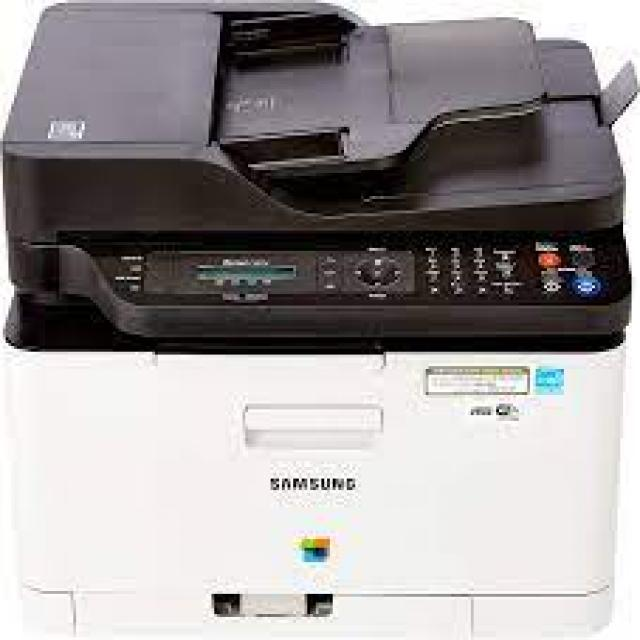printer: (3, 1, 638, 640)
